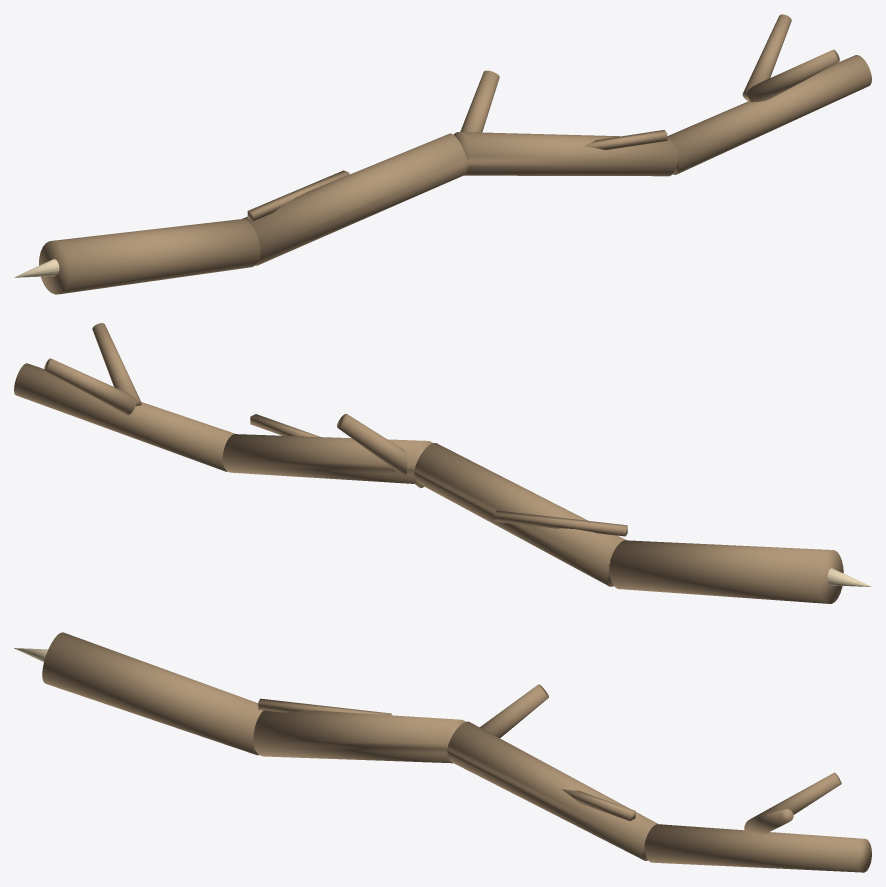
File: stick_3.glb
3 views of the same model, one above another, from view 1: azimuth 30°, elevation 25°; view 2: azimuth 150°, elevation 25°; view 3: azimuth 330°, elevation 25° (orthographic).
Parts seen in each view (by area): view 1: Main_Shaft, Fork_B, Fork_A, Side_Branch, Bark_Ridge_1, Bark_Ridge_2; view 2: Main_Shaft, Fork_A, Side_Branch, Bark_Ridge_1, Fork_B, Bark_Ridge_2; view 3: Main_Shaft, Side_Branch, Fork_A, Bark_Ridge_1, Bark_Ridge_2, Fork_B.
Part boxes in pixels (x1,y1,x2,y2): Main_Shaft: [39, 55, 871, 294]; Fork_B: [747, 49, 839, 102]; Fork_A: [742, 14, 791, 100]; Side_Branch: [460, 70, 499, 132]; Bark_Ridge_1: [247, 170, 349, 220]; Bark_Ridge_2: [583, 130, 667, 150]; Main_Shaft: [14, 363, 843, 603]; Fork_A: [44, 358, 137, 415]; Side_Branch: [337, 413, 423, 488]; Bark_Ridge_1: [494, 510, 627, 536]; Fork_B: [92, 323, 141, 406]; Bark_Ridge_2: [250, 414, 319, 436]; Main_Shaft: [42, 632, 871, 872]; Side_Branch: [480, 684, 548, 737]; Fork_A: [749, 772, 841, 819]; Bark_Ridge_1: [258, 698, 391, 715]; Bark_Ridge_2: [561, 789, 635, 820]; Fork_B: [744, 809, 793, 835].
Bounding box in the file's own units: 0.5791 × 0.0783 × 0.0678.
